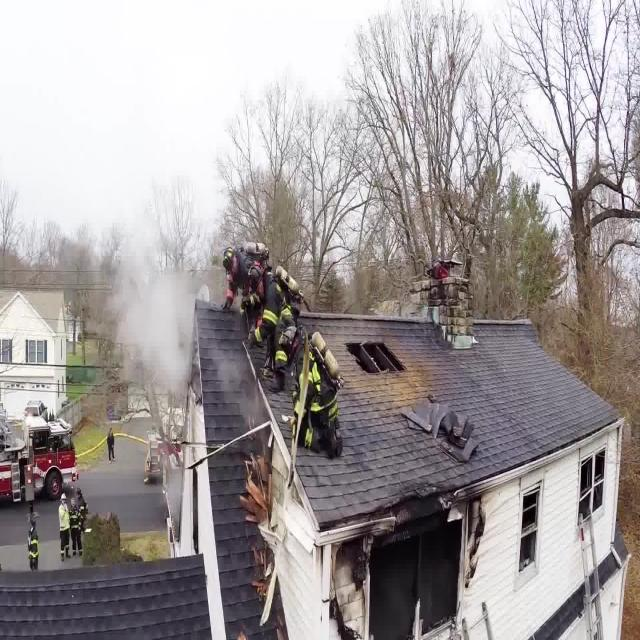Smoke: (104, 197, 202, 402)
